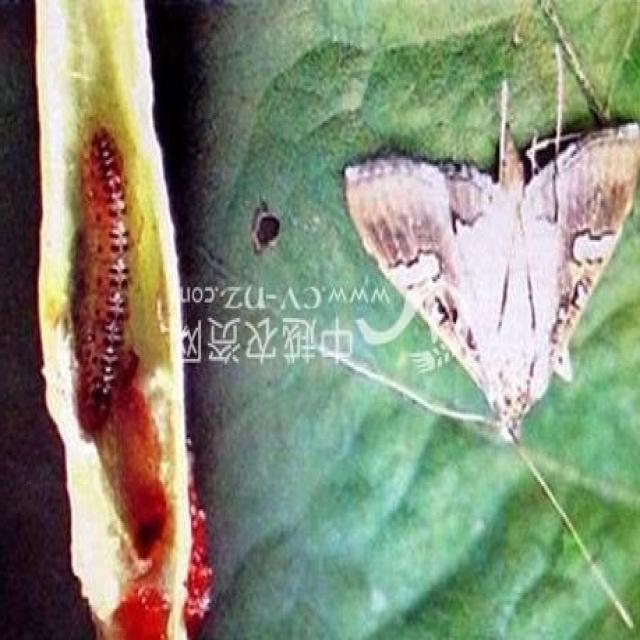peach borer: (325, 112, 639, 444), (58, 106, 129, 450)
